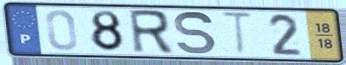0: (44, 9, 80, 53)
2: (266, 12, 304, 57)
8: (88, 9, 127, 54)
R: (126, 8, 176, 56)
S: (172, 9, 218, 57)
T: (219, 10, 256, 58)
